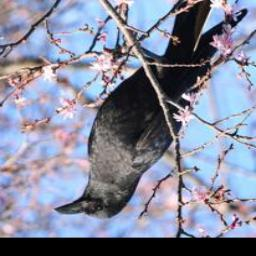Crow: (53, 0, 250, 223)
